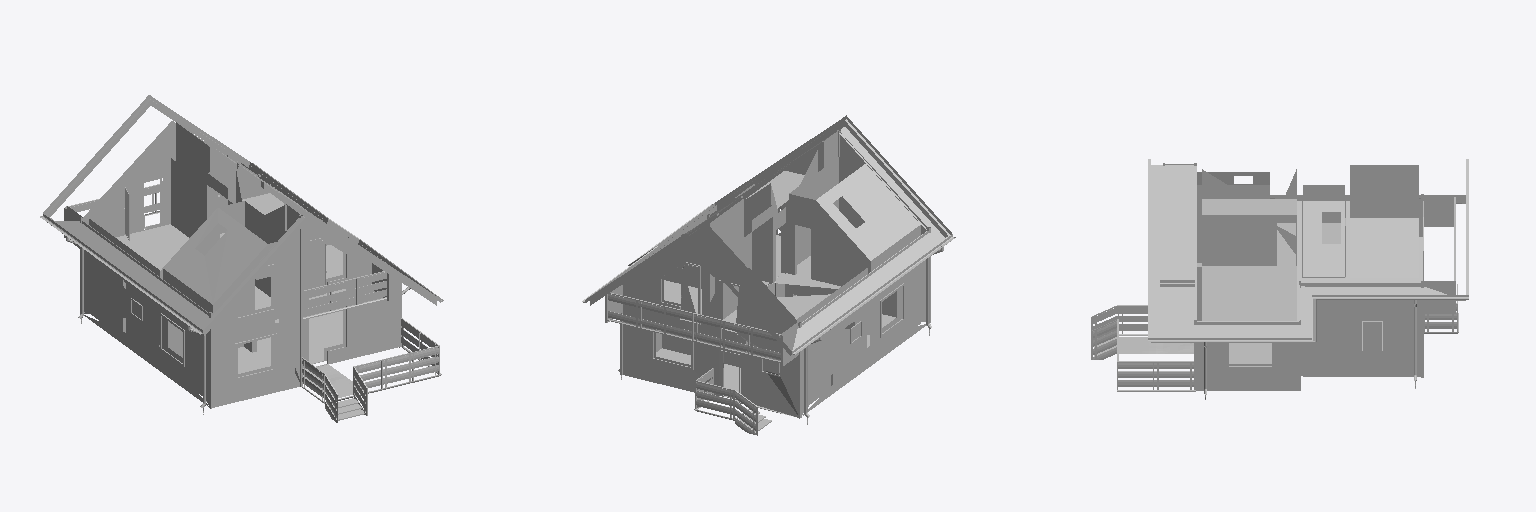
The model's file is HouseTest.obj.
3 renders of one model, left to right at view 1: azimuth 30°, elevation 25°; view 2: azimuth 150°, elevation 25°; view 3: azimuth 270°, elevation 25°, orthographic.
Parts seen in each view (by area): view 1: Plane, Plane_005_Plane_007, Plane_001, Plane_004_Plane_006, Body_001_Plane_003, Door2_Mesh_001; view 2: Plane, Plane_005_Plane_007, Plane_004_Plane_006, Plane_001; view 3: Plane, Plane_005_Plane_007, Plane_001, Plane_004_Plane_006, Body_001_Plane_003.
Boxes of the visible parts, x1,y1,x2,y2 form: Plane: [40, 95, 443, 407]; Plane_005_Plane_007: [163, 122, 345, 319]; Plane_001: [68, 174, 441, 422]; Plane_004_Plane_006: [89, 158, 308, 351]; Body_001_Plane_003: [81, 319, 399, 418]; Door2_Mesh_001: [309, 240, 326, 297]; Plane: [582, 115, 955, 417]; Plane_005_Plane_007: [662, 149, 920, 314]; Plane_004_Plane_006: [685, 197, 867, 385]; Plane_001: [607, 130, 930, 435]; Plane: [1148, 159, 1468, 394]; Plane_005_Plane_007: [1197, 165, 1418, 277]; Plane_001: [1091, 163, 1458, 391]; Plane_004_Plane_006: [1275, 185, 1349, 277]; Body_001_Plane_003: [1097, 337, 1415, 399].
Size of the model in its own units: 7.02 by 5.23 by 9.42.